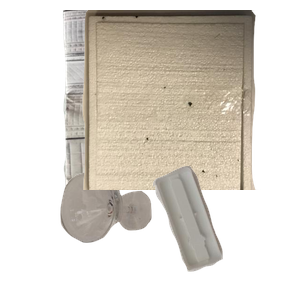glass: (58, 170, 202, 300)
paper: (60, 10, 300, 190)
plastic: (150, 163, 300, 300)
trash: (80, 10, 300, 190)
